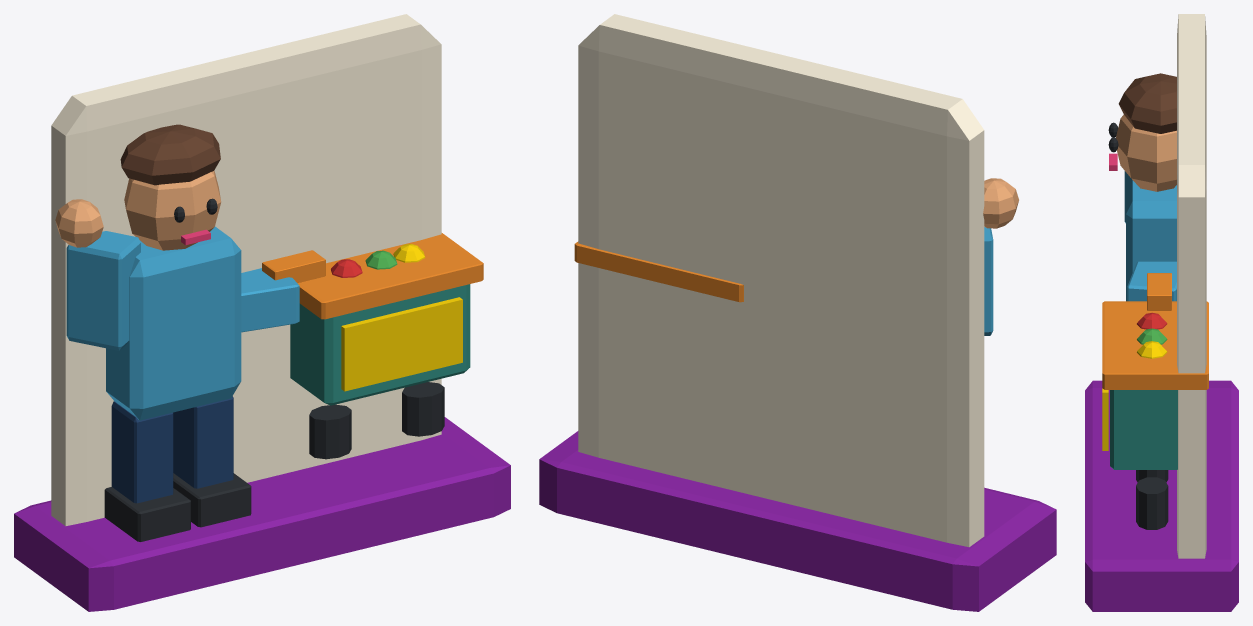
The model's file is shopper_standee.glb.
3 views of the same model, side by side, from view 1: azimuth 30°, elevation 25°; view 2: azimuth 150°, elevation 25°; view 3: azimuth 270°, elevation 25° (orthographic). The views are drawn at different scales.
Visible parts, largest first — view 1: Shopper backing, Shopper base, Shopper torso, Cart basket front, Cart rim, Cart basket, Shopper waving upper arm, Shopper leg, Shopper head, Shopper leg.001, Shopper hair, Shopper shoe (+6 smaller); view 2: Shopper backing, Shopper base, Cart rim, Shopper waving hand, Shopper waving upper arm; view 3: Shopper base, Shopper backing, Cart rim, Cart basket, Shopper torso, Shopper head, Shopper hair, Cart wheel.001, Shopper reaching arm, Cart handle, Cart basket front, Cart groceries.002 (+3 smaller).
Part boxes in pixels (x1,y1,x2,y2): Shopper backing: [51, 14, 441, 526]; Shopper base: [14, 417, 510, 611]; Shopper torso: [106, 226, 241, 420]; Cart basket front: [341, 297, 462, 391]; Cart rim: [297, 233, 483, 319]; Cart basket: [290, 284, 470, 405]; Shopper waving upper arm: [66, 231, 140, 350]; Shopper leg: [111, 401, 173, 503]; Shopper head: [124, 170, 221, 250]; Shopper leg.001: [173, 396, 233, 488]; Shopper hair: [120, 124, 220, 185]; Shopper shoe: [104, 487, 190, 541]; Shopper backing: [578, 14, 984, 547]; Shopper base: [539, 431, 1056, 611]; Cart rim: [574, 241, 743, 302]; Shopper waving hand: [983, 178, 1018, 228]; Shopper waving upper arm: [984, 227, 993, 335]; Shopper base: [1085, 380, 1238, 611]; Shopper backing: [1177, 14, 1206, 558]; Cart rim: [1102, 301, 1208, 389]; Cart basket: [1110, 390, 1177, 469]; Shopper torso: [1126, 172, 1176, 301]; Shopper head: [1116, 114, 1176, 191]; Shopper hair: [1118, 73, 1176, 133]; Cart wheel.001: [1136, 477, 1168, 529]; Shopper reaching arm: [1127, 261, 1176, 301]; Cart handle: [1147, 273, 1171, 310]; Cart basket front: [1102, 388, 1108, 450]; Cart groceries.002: [1137, 341, 1167, 358].
Bounding box in the file's own units: 1.82 × 1.91 × 0.62.
